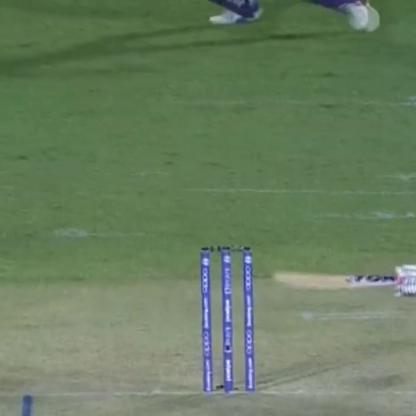bat: (270, 264, 416, 302)
